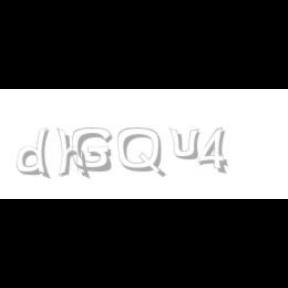4: (198, 128, 228, 174)
G: (72, 128, 112, 172)
Q: (118, 128, 164, 178)
d: (16, 128, 54, 180)
h: (56, 128, 92, 180)
u: (169, 128, 204, 160)
